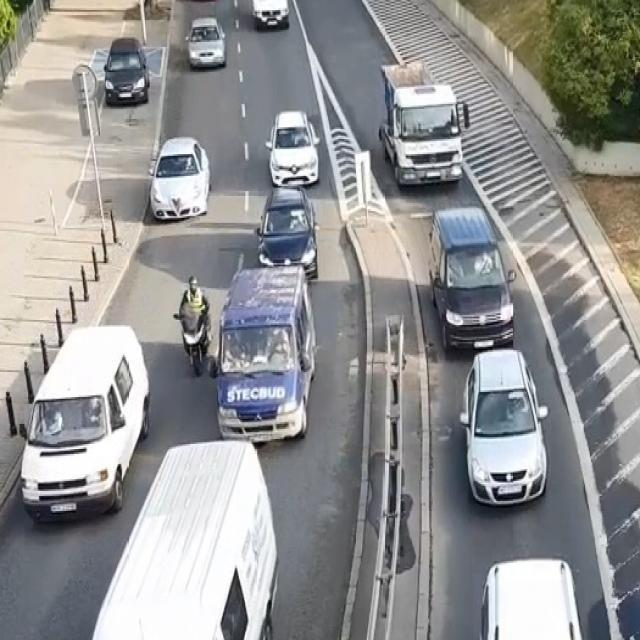car: (92, 441, 276, 639), (21, 326, 149, 520), (460, 350, 548, 504), (482, 560, 582, 640), (256, 189, 316, 278), (150, 138, 209, 219), (265, 111, 319, 186), (105, 38, 149, 105), (186, 18, 226, 68), (252, 0, 289, 29)
lorry: (379, 62, 469, 184)
minivan: (215, 266, 316, 442), (429, 208, 514, 350)
motorcyclist: (174, 276, 210, 376)
